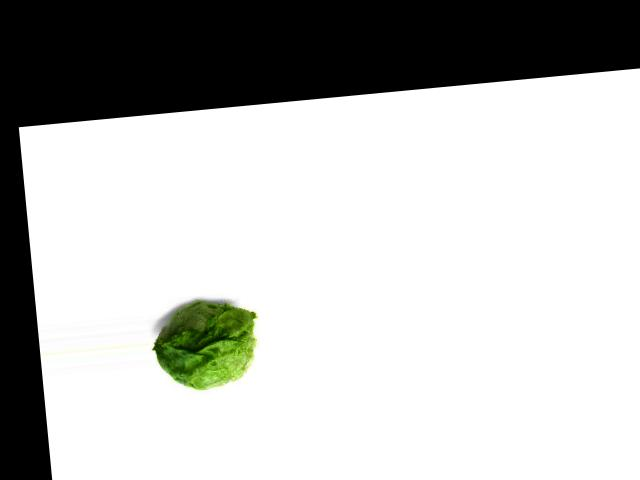lettuce: (150, 291, 261, 400)
